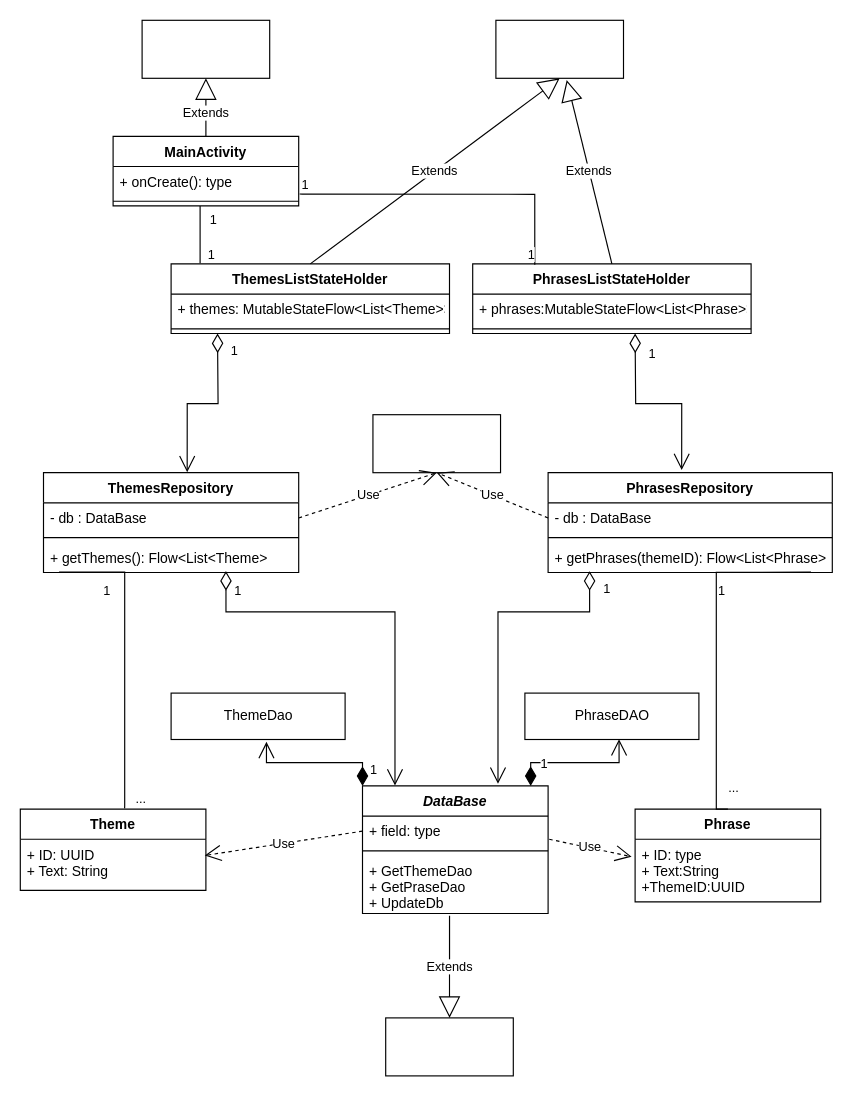
The diagram is 853 pixels wide and 1096 high, and some of its shapes have lost their labels. Here are the shapes that lost their labels. From the top down, the centre of each, then its label:
point 205,48: ComponentActivity
point 559,48: ViewModel
point 436,443: ApplicationStarter
point 449,1046: RoomDataBase
